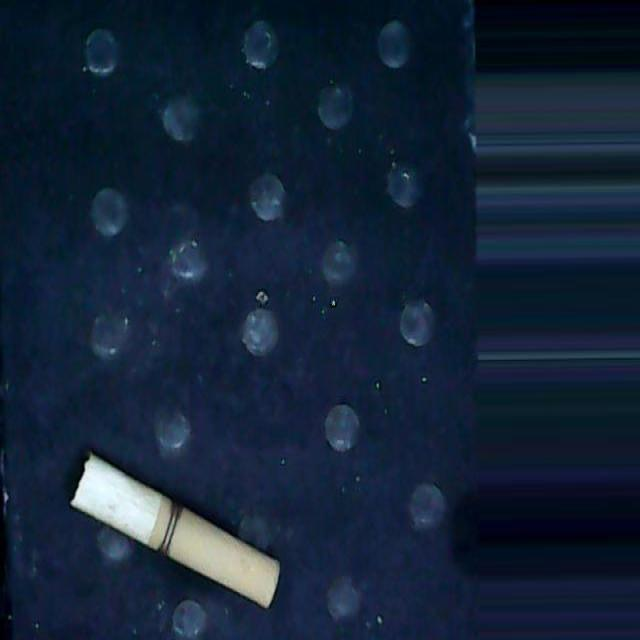-Other waste - cigarette butt-: (70, 450, 280, 612)
